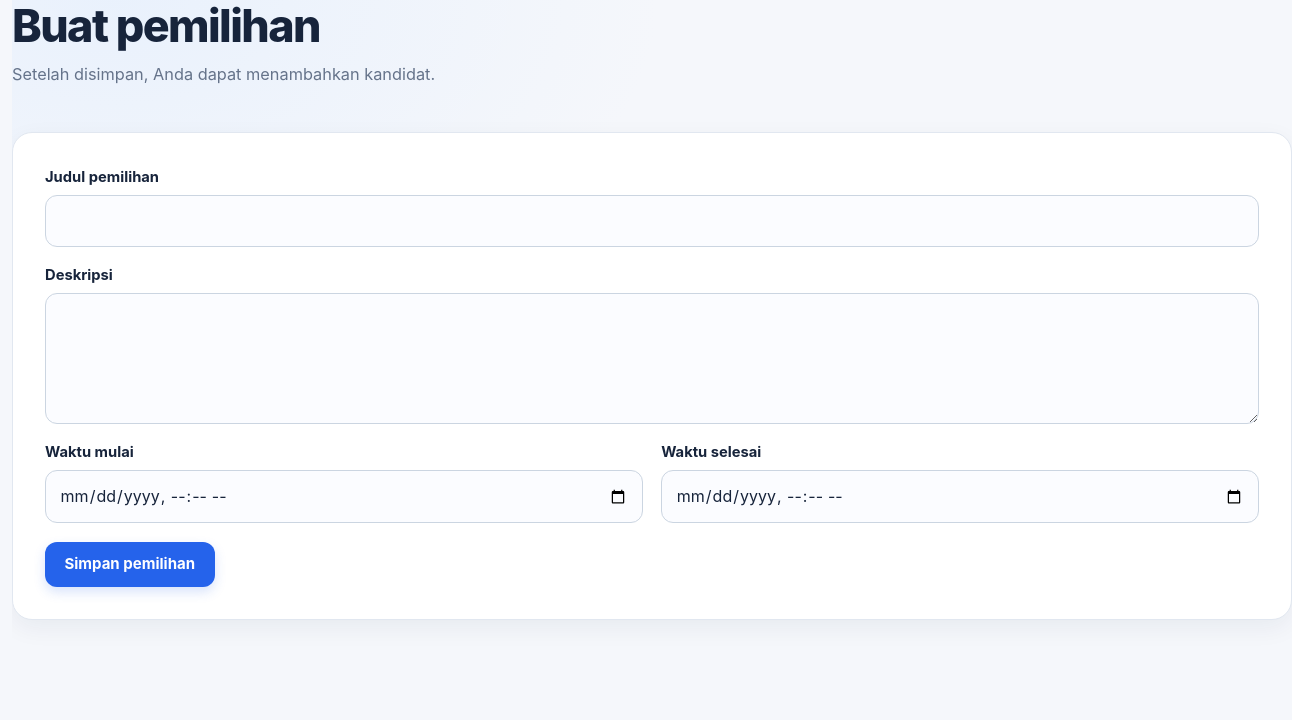
Test case: ElectionFormPage › membuat pemilihan baru lalu membuka halaman ubah
This screenshot has width=1292, height=720.
Type "Pemilihan Ketua BEM" into the field labelled "Judul pemilihan".
click(652, 221); type("Pemilihan Ketua BEM")  # box [45,195,1259,247]
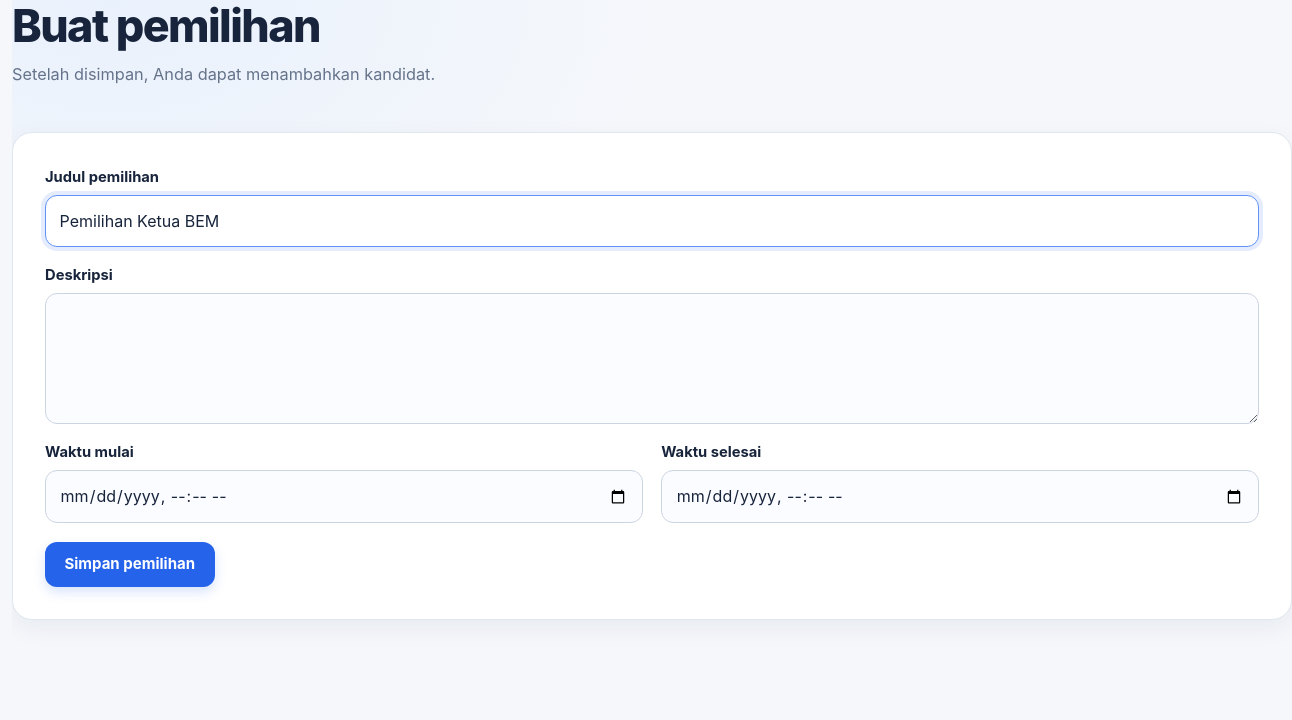
Type "Periode baru" into the text box labelled "Deskripsi".
click(652, 358); type("Periode baru")  # box [45,293,1259,424]
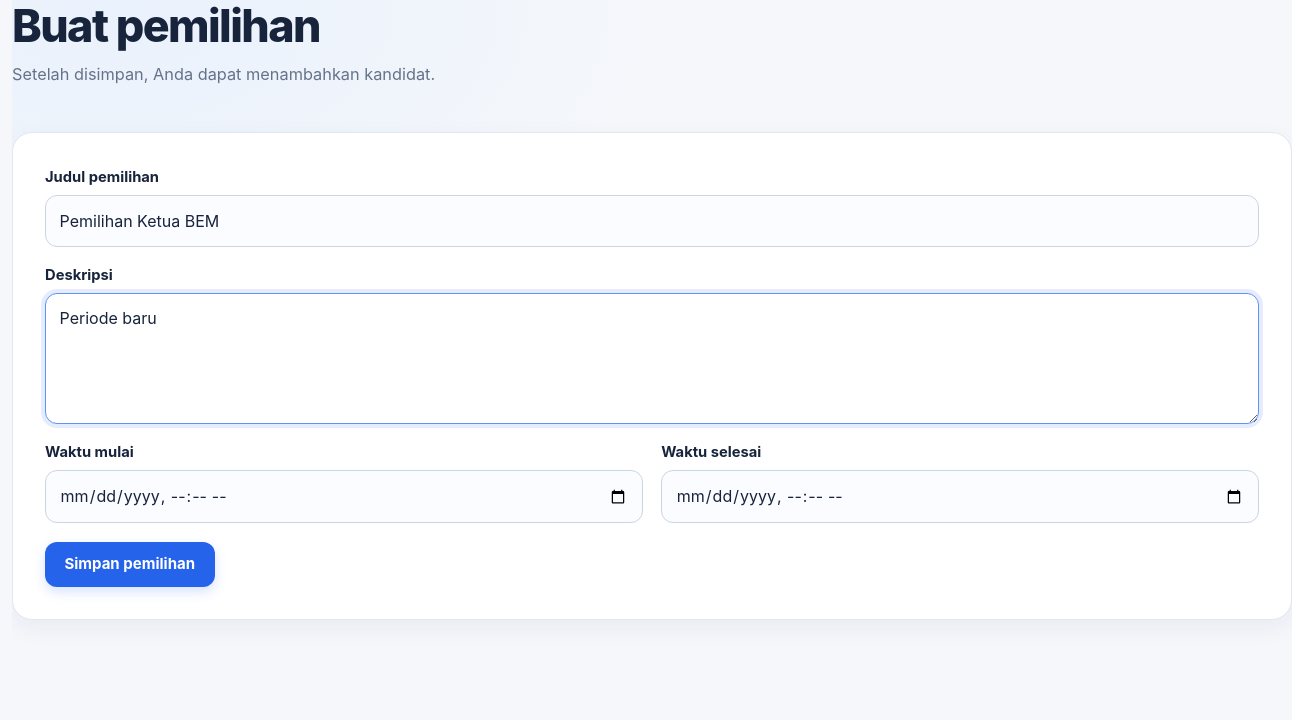
Type "2026-11-01T08:00" into the field labelled "Waktu mulai".
click(344, 497); type("2026-11-01T08:00")  # box [45,470,643,523]
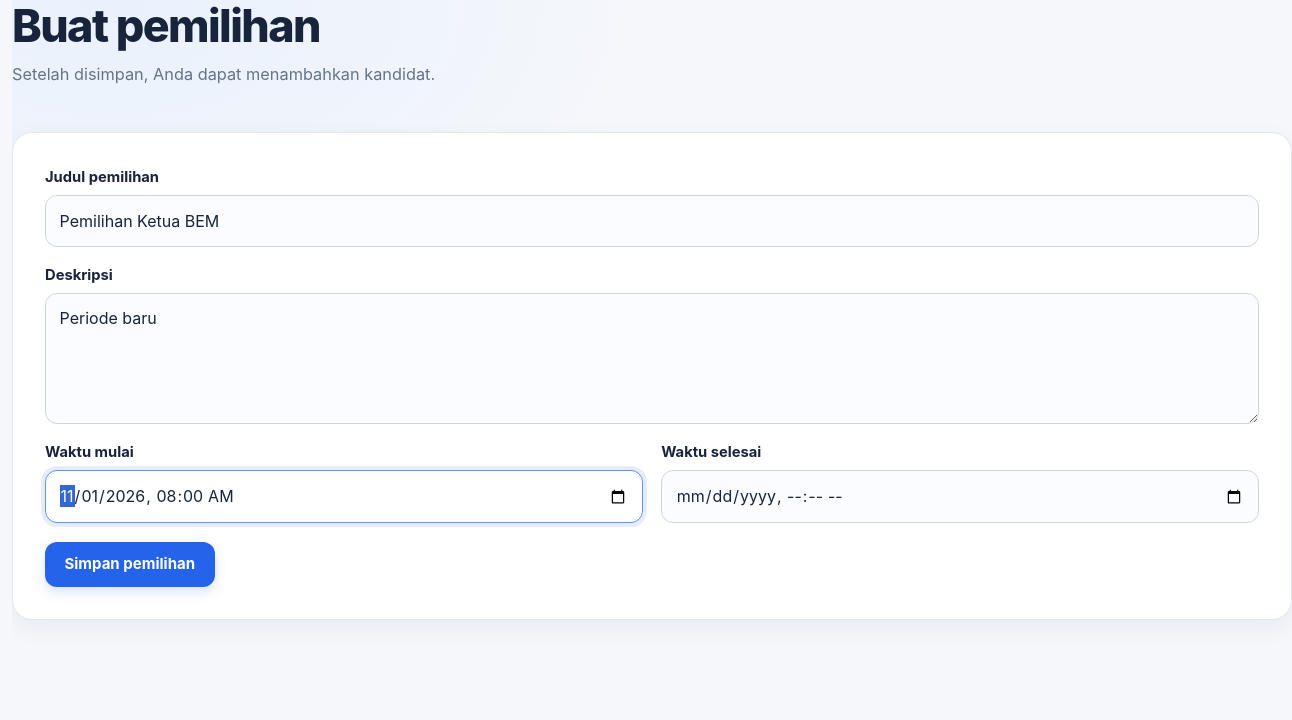
Type "2026-11-02T08:00" into the field labelled "Waktu selesai".
click(960, 497); type("2026-11-02T08:00")  # box [661,470,1259,523]
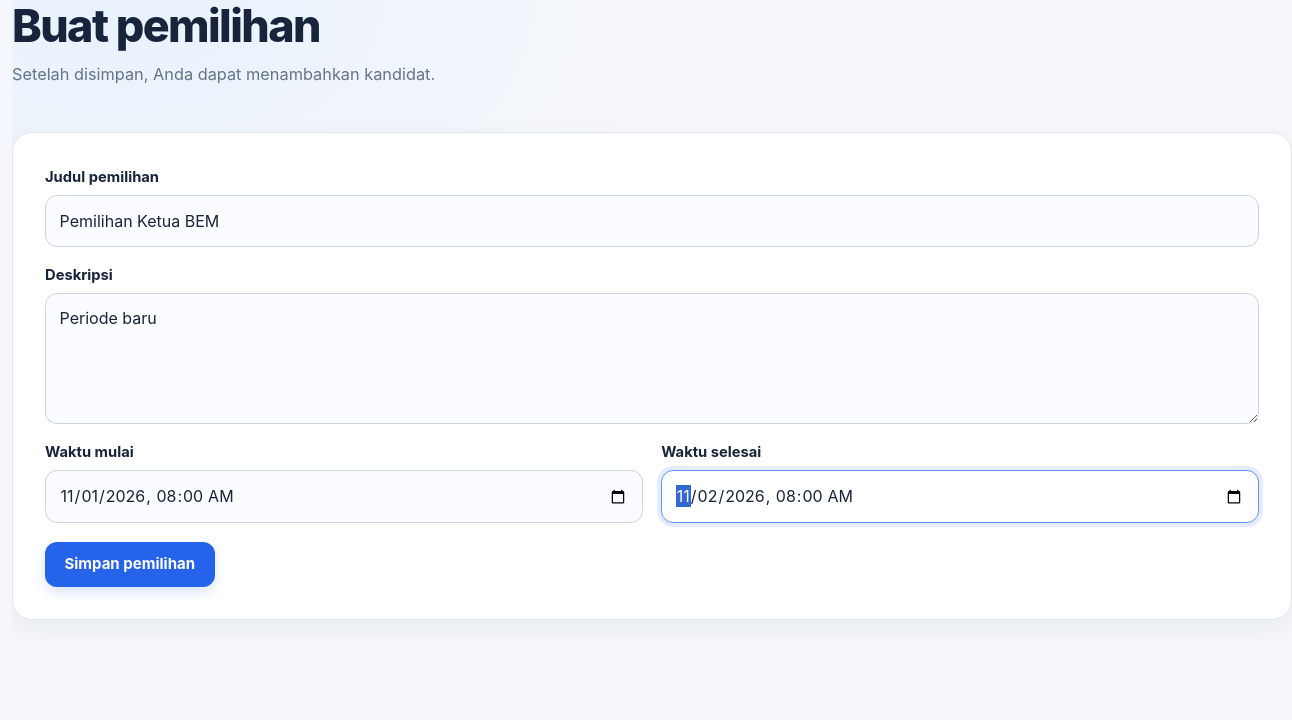
Click the button "Simpan pemilihan".
click(130, 564)  # box [45,542,214,586]
(page scrolled)
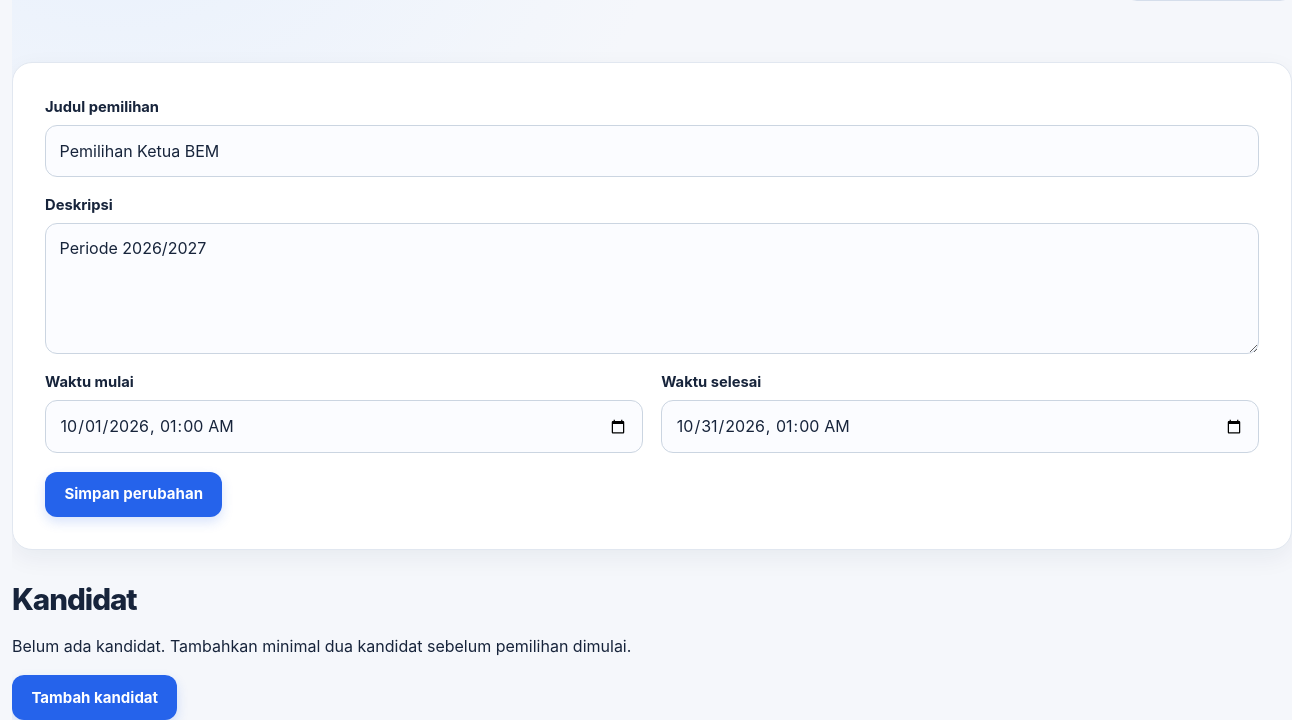
expect the text "Belum ada kandidat" is shown: met, box [12,636,631,656]
